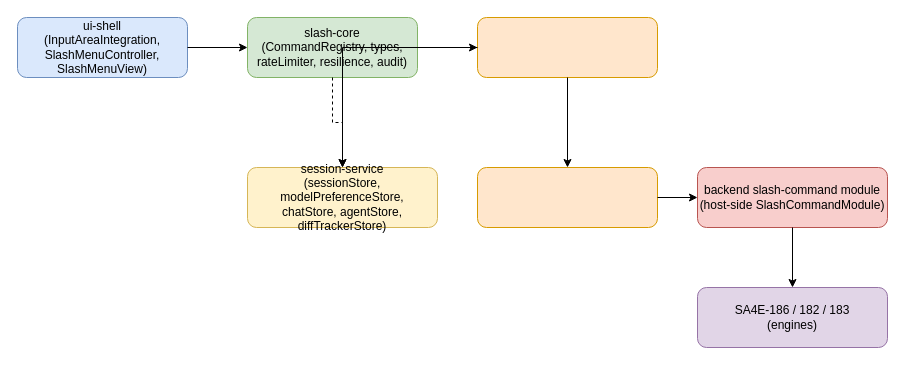
Image size: 905x365. Some labels were removed from this diagram. The shapes that lost their labels are listed below. From the top down, each one's box as (x1, y1, x2, y2) in pixels, then its label:
(476, 16, 658, 78): commands (7 handlers: agents, compact, diff, models, new, review, undo)
(476, 166, 658, 228): integration-adapters (AgentRouter, Compaction, FileChange)
